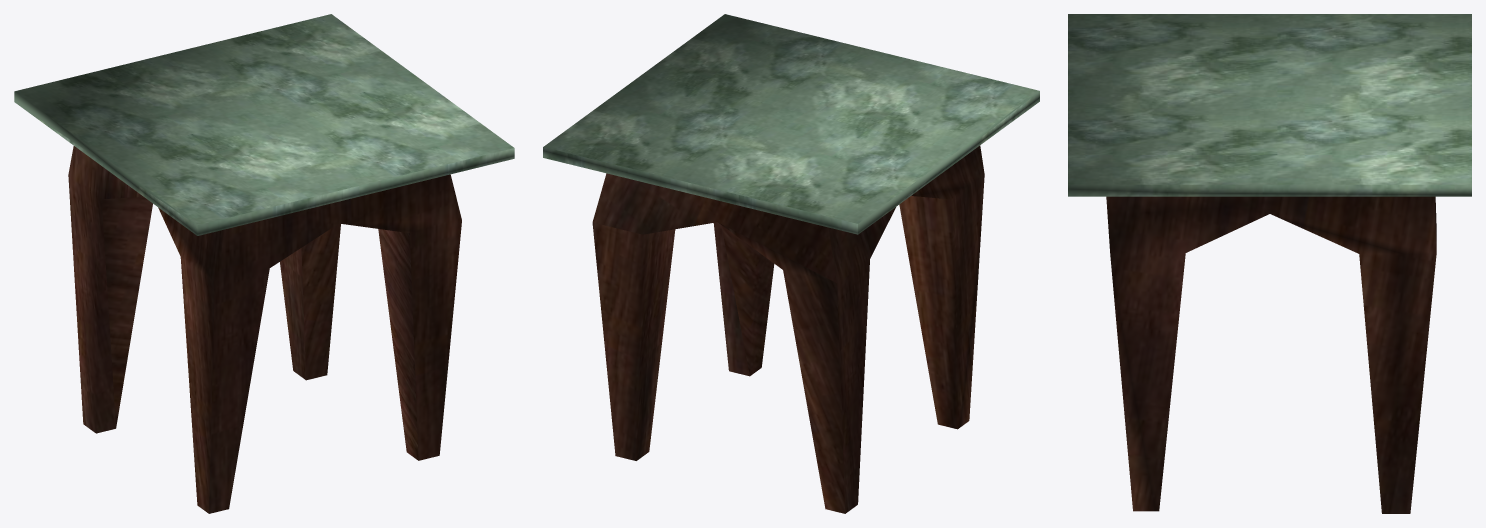
The model's file is objects_table_1.glb.
3 renders of one model, left to right at view 1: azimuth 30°, elevation 25°; view 2: azimuth 150°, elevation 25°; view 3: azimuth 270°, elevation 25°, orthographic. The views are drawn at different scales.
Parts seen in each view (by area): view 1: table_1; view 2: table_1; view 3: table_1.
Boxes of the visible parts, x1=… form: table_1: x1=14, y1=14, x2=514, y2=513; table_1: x1=543, y1=14, x2=1039, y2=513; table_1: x1=1068, y1=14, x2=1471, y2=513.
Size of the model in its own units: 3.23 by 3.13 by 3.23.
Materials: 2 (2 with a texture image).
